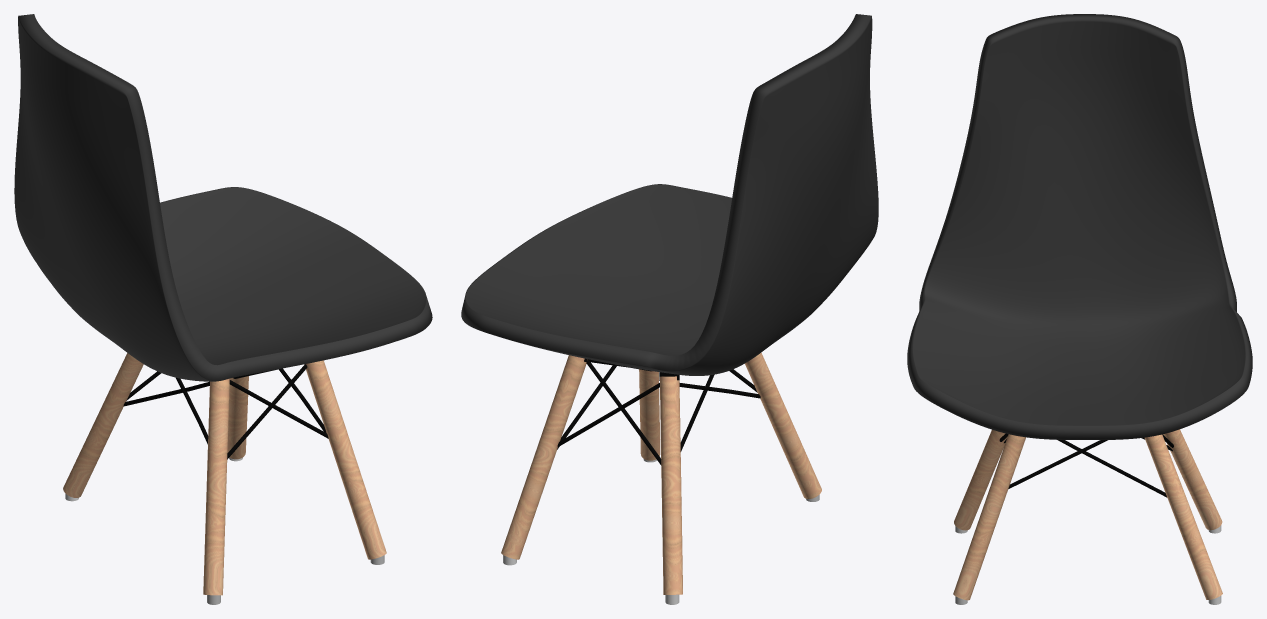
Rendered from chair3_ver1.glb.
The picture shows the model from 3 angles, left to right: view 1: azimuth 30°, elevation 25°; view 2: azimuth 150°, elevation 25°; view 3: azimuth 270°, elevation 25°; orthographic projection. The views are drawn at different scales.
Parts seen in each view (by area): view 1: Plane, Cylinder.001, Cylinder, Cylinder.003, Cylinder.002; view 2: Plane, Cylinder.003, Cylinder.002, Cylinder.001, Cylinder, Cylinder.013; view 3: Plane, Cylinder.002, Cylinder, Cylinder.003, Cylinder.001, Cylinder.006.
Part boxes in pixels (box(x1,y1,x2,y2)): Plane: box(14, 14, 432, 381); Cylinder.001: box(203, 378, 229, 595); Cylinder: box(305, 360, 386, 559); Cylinder.003: box(63, 353, 143, 497); Cylinder.002: box(227, 376, 248, 459); Plane: box(461, 14, 878, 375); Cylinder.003: box(659, 376, 682, 594); Cylinder.002: box(501, 355, 587, 559); Cylinder.001: box(745, 352, 821, 498); Cylinder: box(639, 369, 660, 460); Cylinder.013: box(586, 359, 661, 465); Plane: box(907, 14, 1252, 439); Cylinder.002: box(1144, 434, 1222, 599); Cylinder: box(953, 434, 1025, 600); Cylinder.003: box(1163, 429, 1222, 530); Cylinder.001: box(954, 429, 1007, 530); Cylinder.006: box(1058, 440, 1166, 497).
Size of the model in its own units: 0.5851 by 0.8568 by 0.5666.
4 materials, 1 textured.
